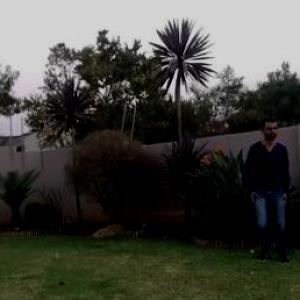follow: (248, 111, 293, 268)
